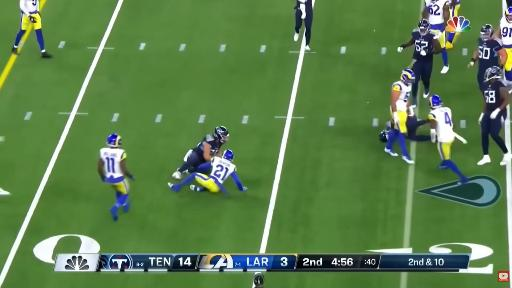Helmet: (484, 65, 503, 81), (480, 24, 494, 41), (215, 126, 229, 142), (400, 70, 414, 84), (418, 19, 430, 35), (107, 134, 121, 147), (429, 95, 442, 109), (380, 129, 389, 143), (222, 150, 233, 160), (506, 8, 511, 24)
Jersey: (100, 148, 126, 183), (429, 107, 454, 142), (479, 38, 503, 70), (412, 29, 435, 61), (426, 0, 450, 29), (483, 81, 505, 112), (211, 157, 235, 183), (193, 134, 222, 155), (392, 81, 411, 111), (500, 16, 511, 48), (24, 0, 39, 14), (304, 0, 313, 14), (505, 73, 511, 80)
Player: (398, 19, 440, 105), (168, 150, 246, 194), (428, 95, 467, 183), (478, 67, 511, 165), (98, 134, 134, 220), (172, 126, 228, 179), (385, 69, 415, 164), (469, 24, 507, 91), (12, 0, 51, 58), (423, 0, 451, 73), (496, 7, 511, 81), (294, 0, 313, 50), (407, 115, 430, 141), (446, 33, 460, 49)
